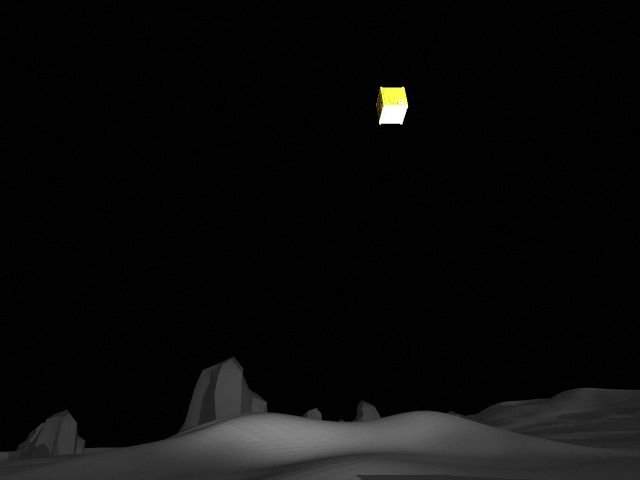cubesat: (370, 81, 412, 130)
